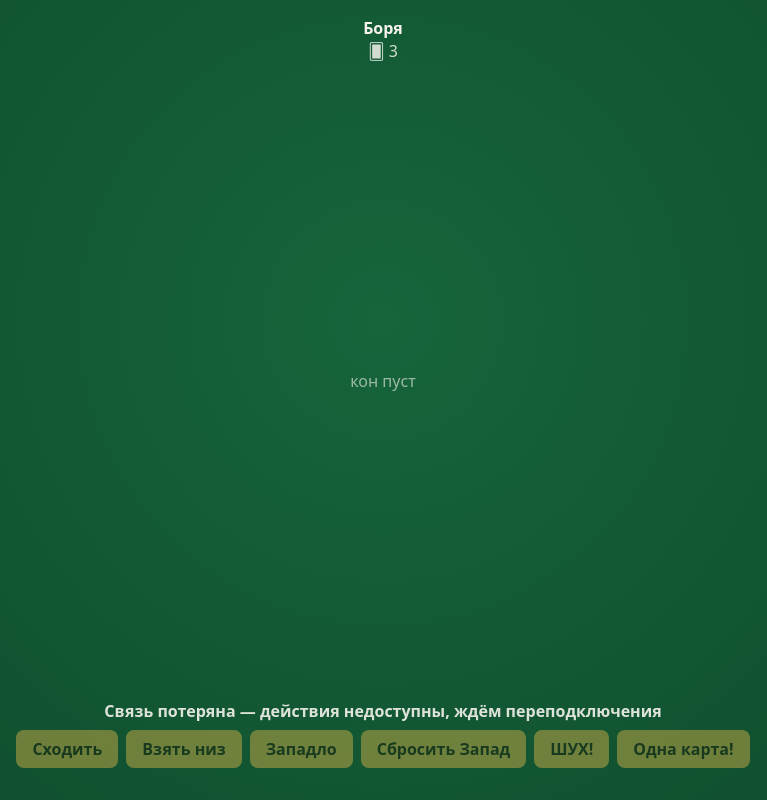
it: обрыв связи блокирует действия (§8, W3-5) › отправка при обрыве отбрасывается С УВЕДОМЛЕНИЕМ, а не молча
This screenshot has width=767, height=800.
Click the button "Боря" at point(383, 28), box [357, 16, 409, 40]
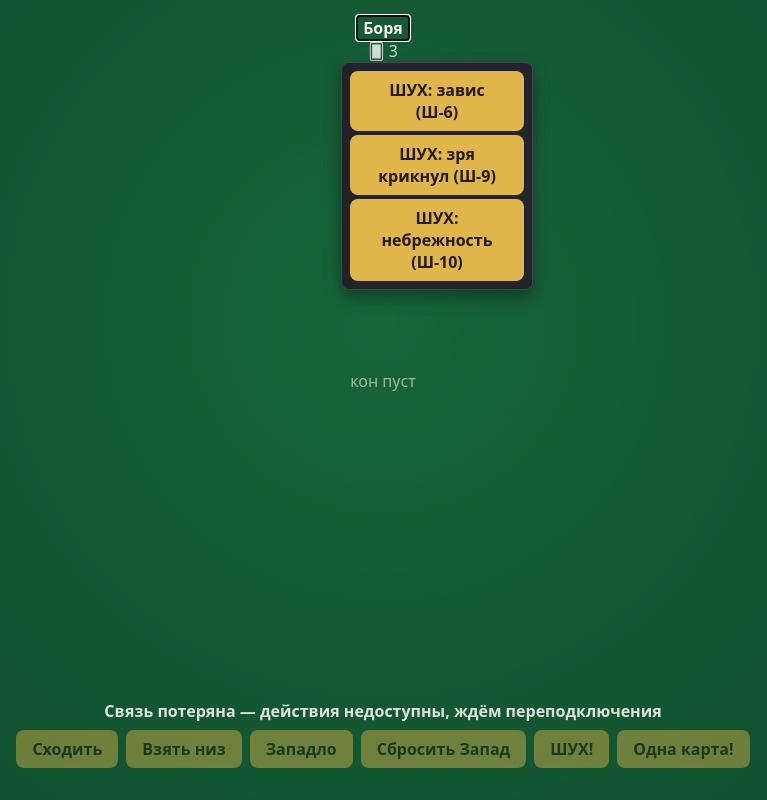
Click the button "ШУХ: завис (Ш-6)" at point(437, 101), box [350, 71, 524, 131]
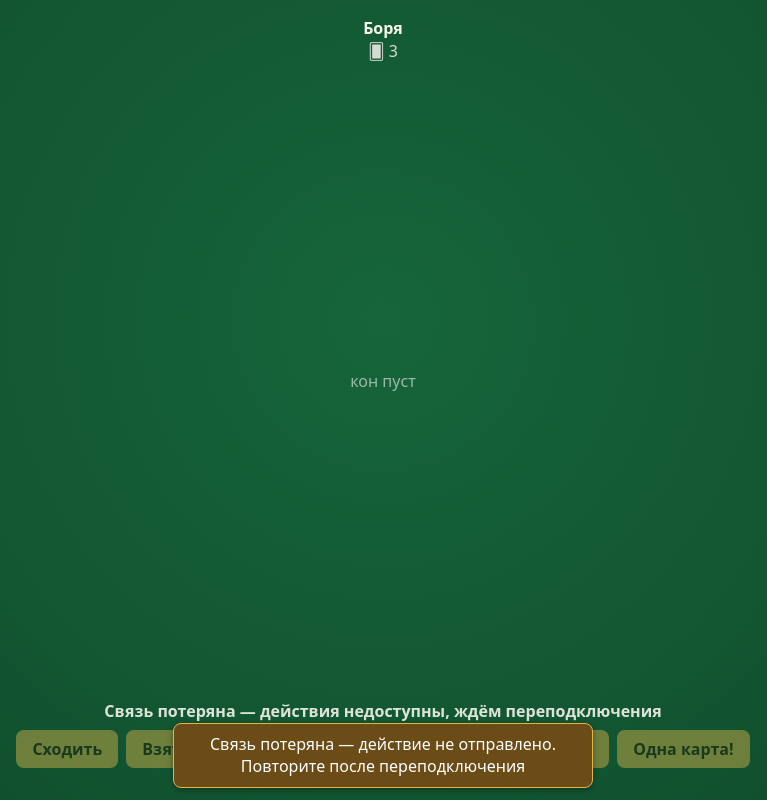
Expected: the message with test id "notice" shows "Связ", [210, 733, 556, 777]
